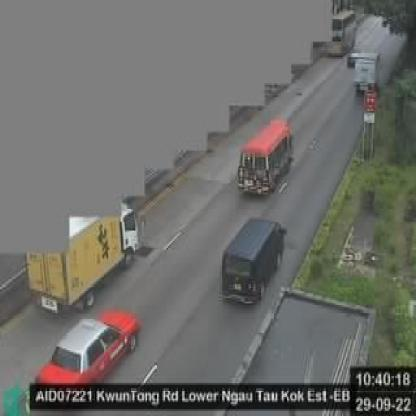Bus: (320, 5, 359, 61)
Car: (30, 304, 142, 400), (215, 217, 291, 305)
Minibus: (234, 114, 292, 196)
Truck: (27, 198, 151, 315), (349, 47, 382, 100)
